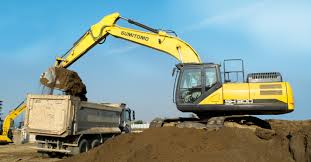excavator: (40, 13, 294, 135)
truck: (23, 92, 134, 159)
